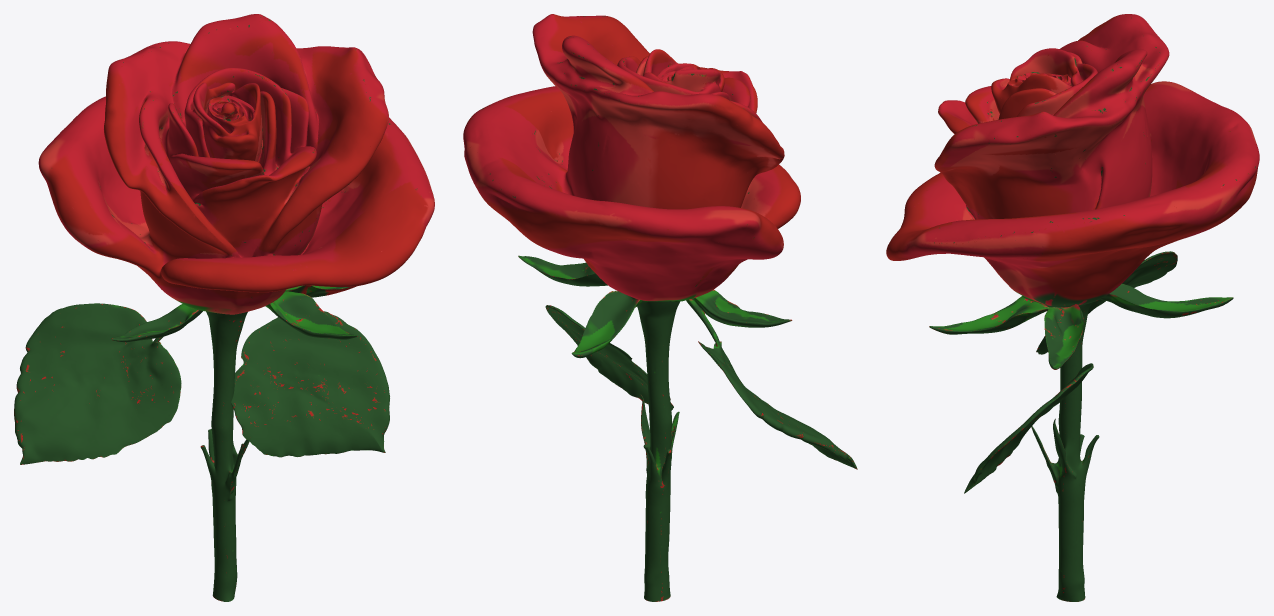
Rendered from 1763916265_AI_Rose_textured.glb.
The picture shows the model from 3 angles, left to right: view 1: azimuth 30°, elevation 25°; view 2: azimuth 150°, elevation 25°; view 3: azimuth 270°, elevation 25°; orthographic projection. The views are drawn at different scales.
Parts seen in each view (by area): view 1: model; view 2: model; view 3: model.
Part boxes in pixels (x1=…): model: x1=14, y1=14, x2=434, y2=601; model: x1=463, y1=14, x2=857, y2=601; model: x1=886, y1=14, x2=1259, y2=601.
Size of the model in its own units: 1.23 by 1.75 by 1.05.
Materials: 1 (1 with a texture image).
